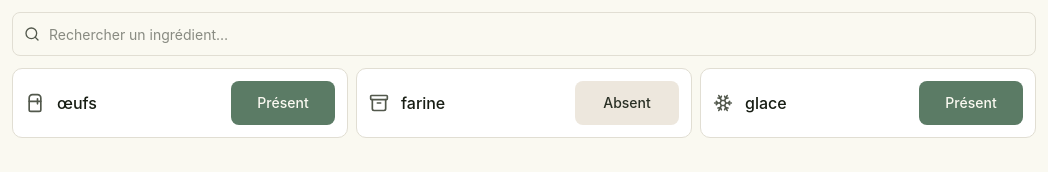
Scenario: StockGrid › bascule présent/absent et met à jour le libellé
The width and height of the screenshot is (1048, 172).
Check: the text "farine" is shown, box [401,91,445,115]
Step 1. Click the switch named "farine" → (627, 103), box [575,81,679,125]
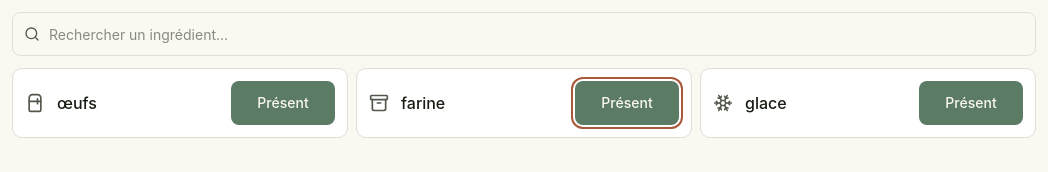
Check: the switch named "farine" reads "Présent", box [575,81,679,125]
